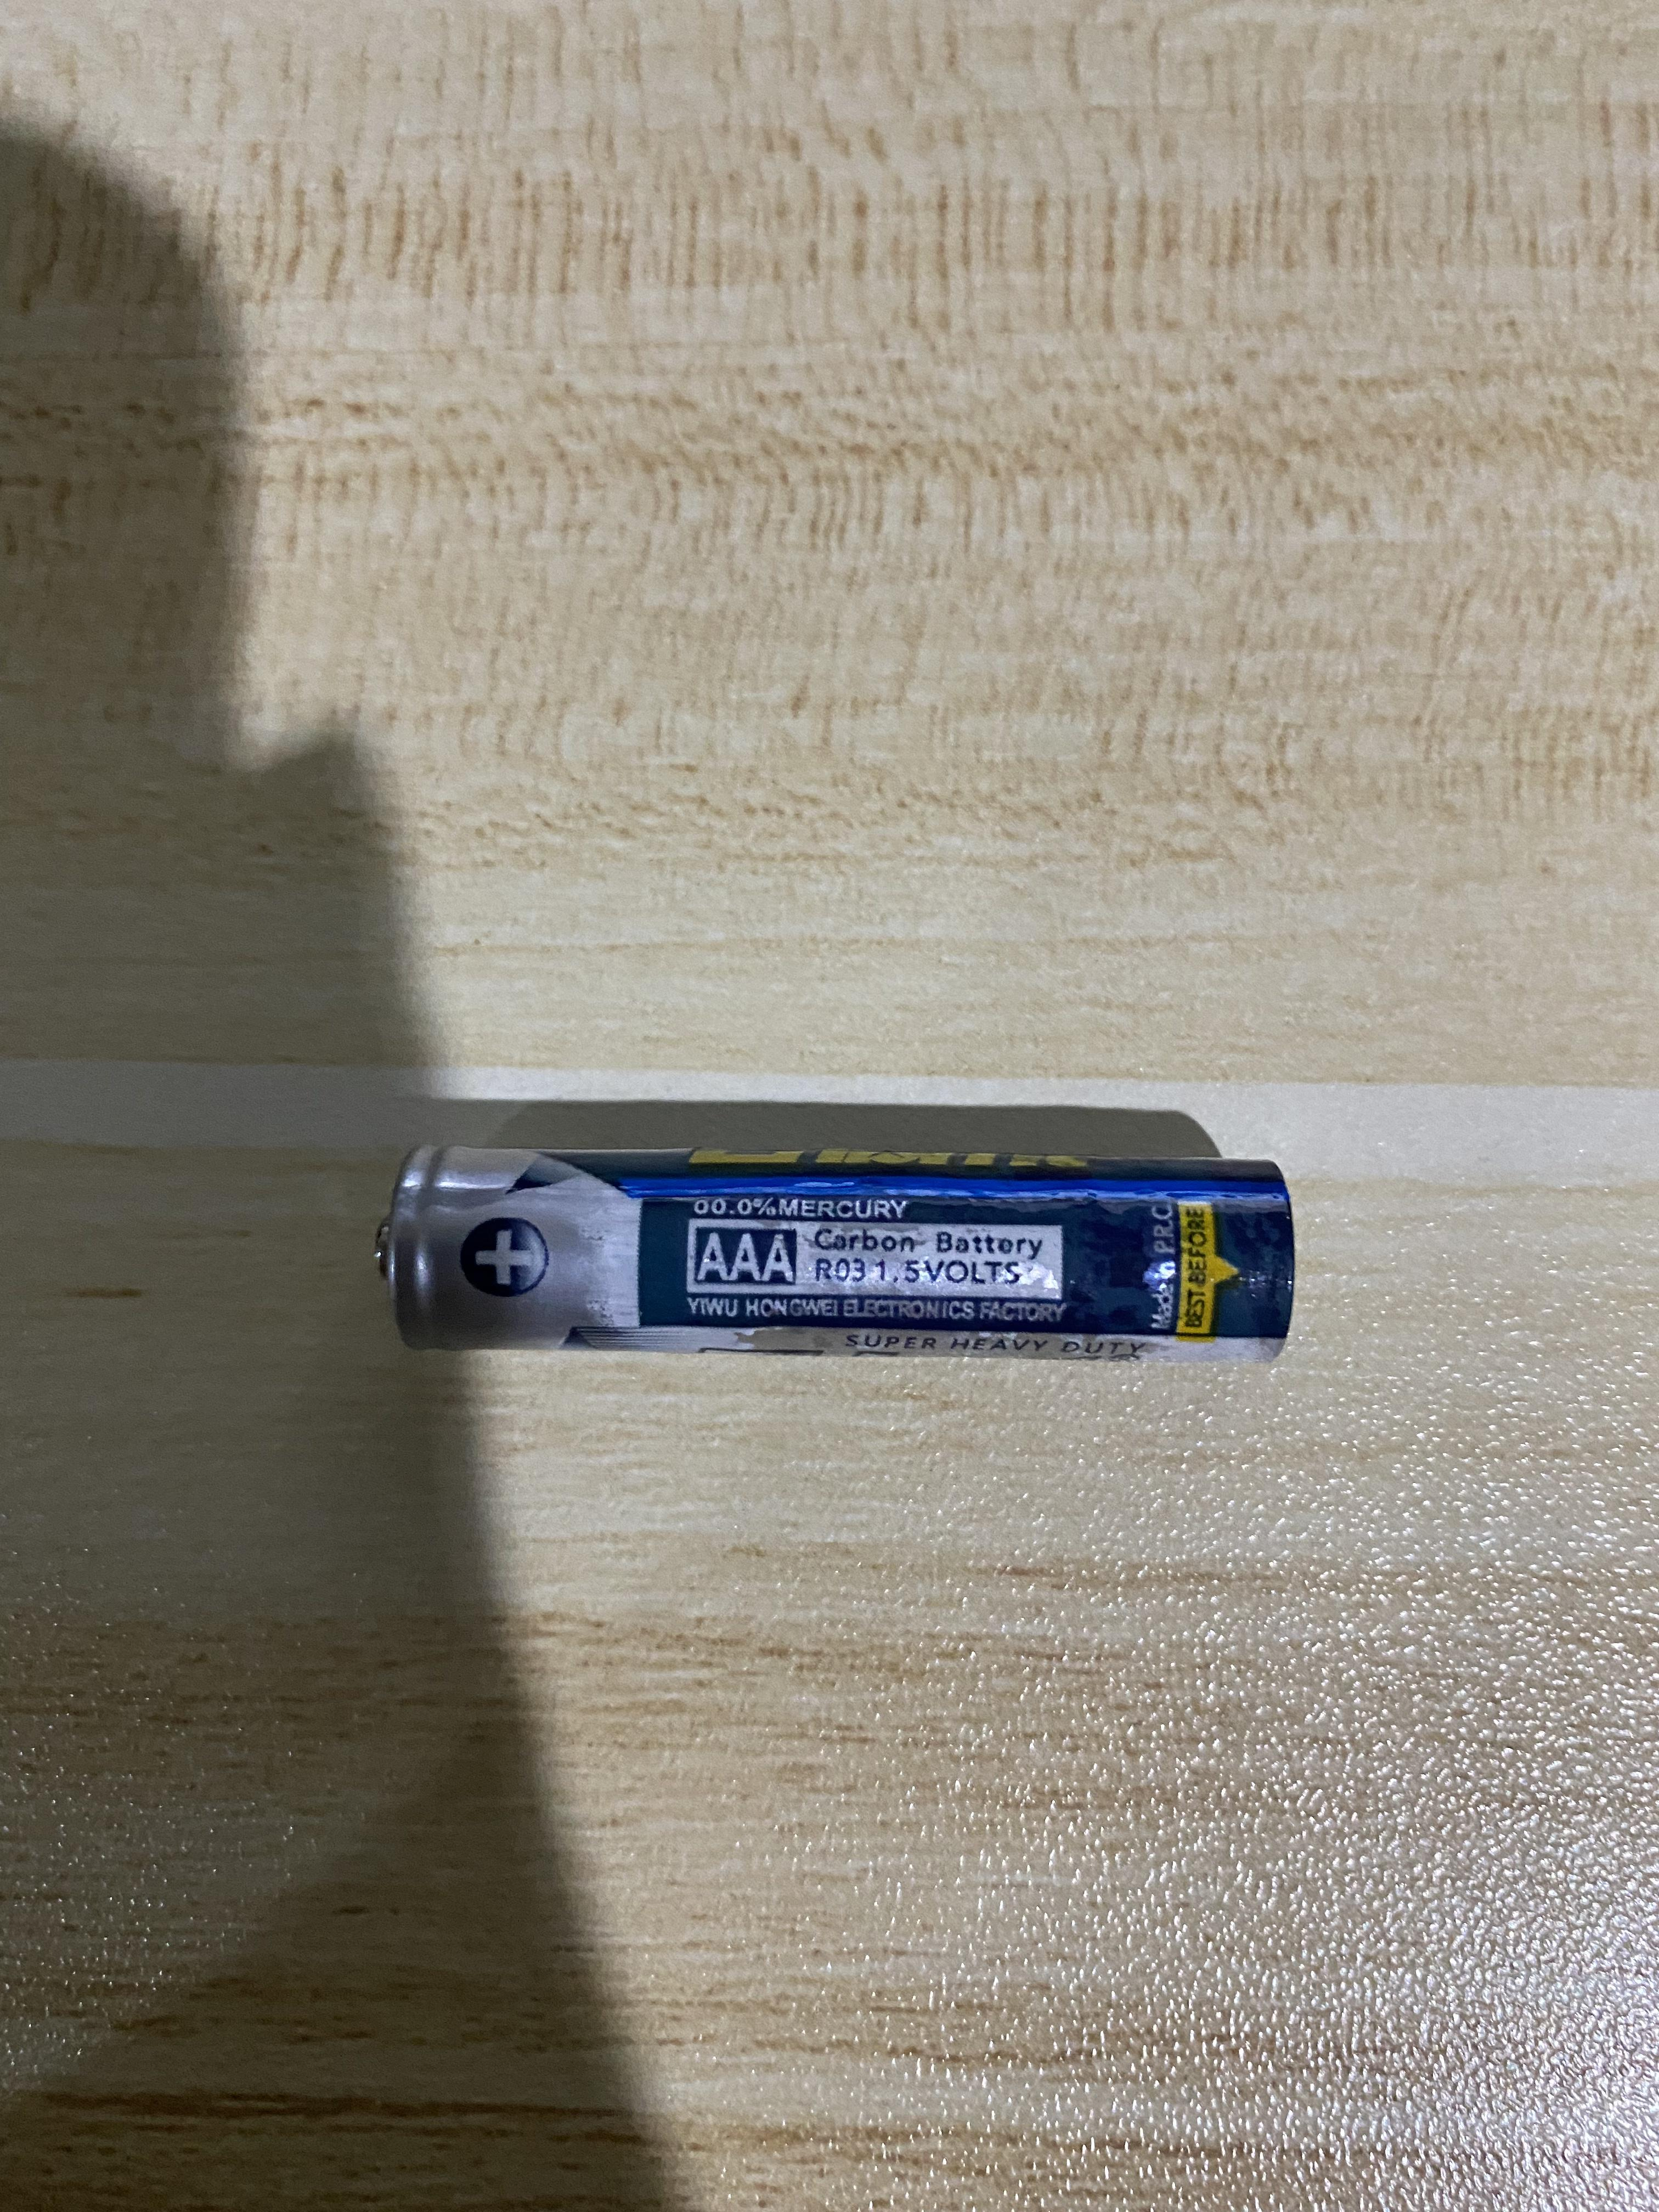Battery: (369, 1130, 1297, 1367)
